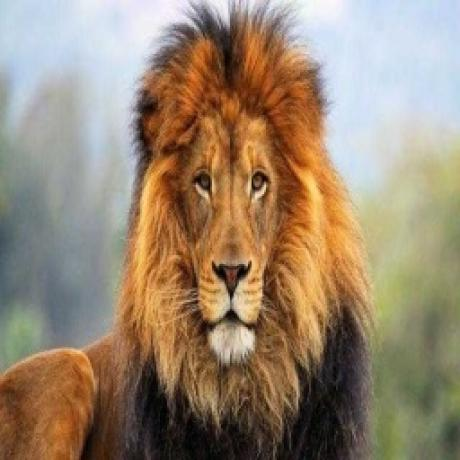Lion: (0, 0, 381, 460)
